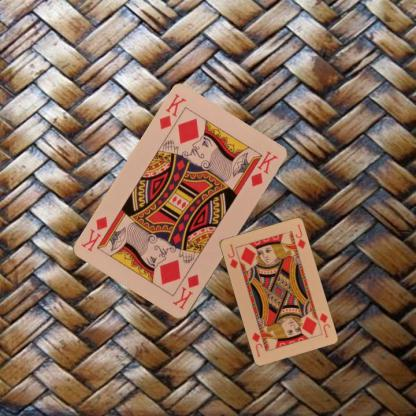Jd: (225, 241, 239, 270), (317, 310, 331, 339)
Kd: (170, 271, 202, 311), (156, 91, 187, 131)
